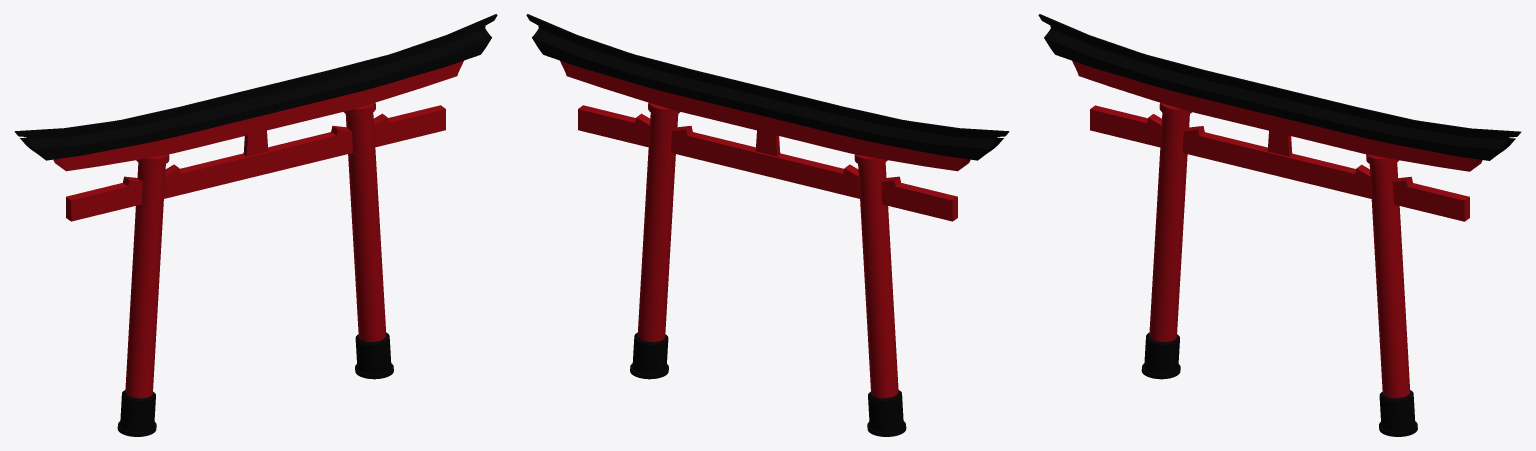
Rendered from Inari_3.fbx.
3 views of the same model, side by side, from view 1: azimuth 30°, elevation 25°; view 2: azimuth 150°, elevation 25°; view 3: azimuth 330°, elevation 25° (orthographic).
Visible parts, largest first — view 1: Cube.025; view 2: Cube.025; view 3: Cube.025.
Boxes of the visible parts, x1,y1,x2,y2 form: Cube.025: (14, 14, 497, 436); Cube.025: (526, 14, 1009, 436); Cube.025: (1038, 14, 1521, 436).
Bounding box in the file's own units: 2047 × 1327 × 142.
